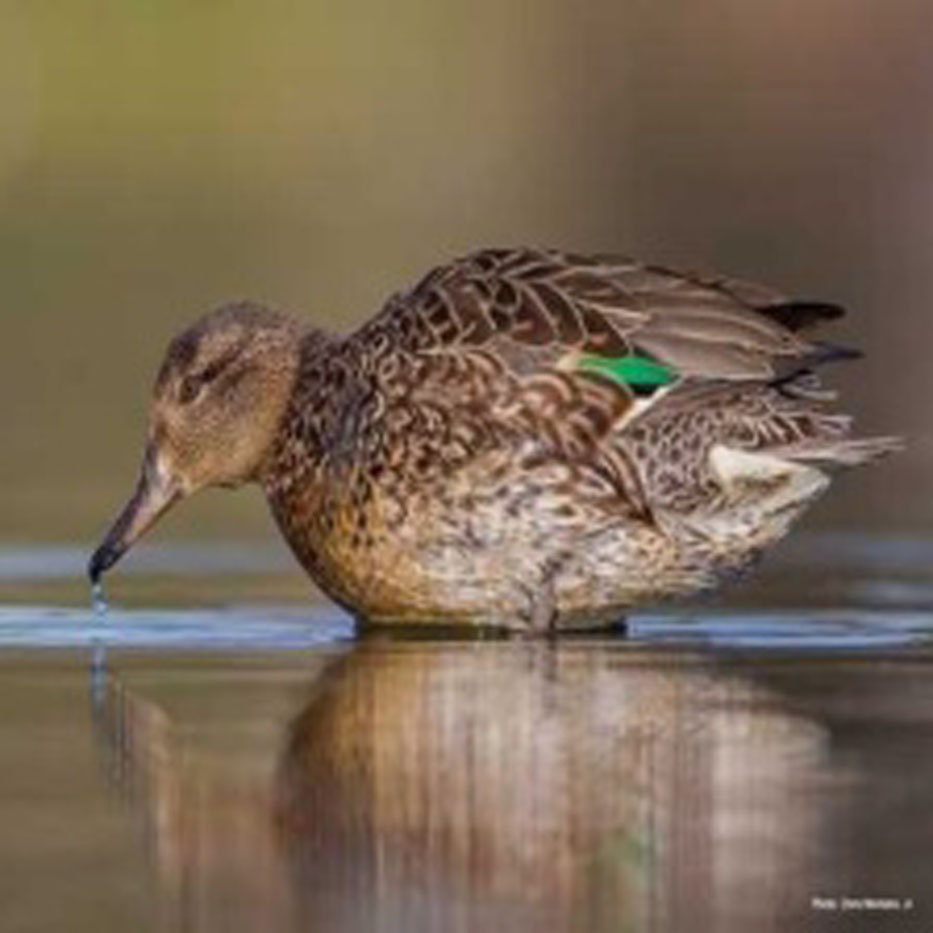Mencari Makan di Lumpur: (64, 439, 180, 585)
